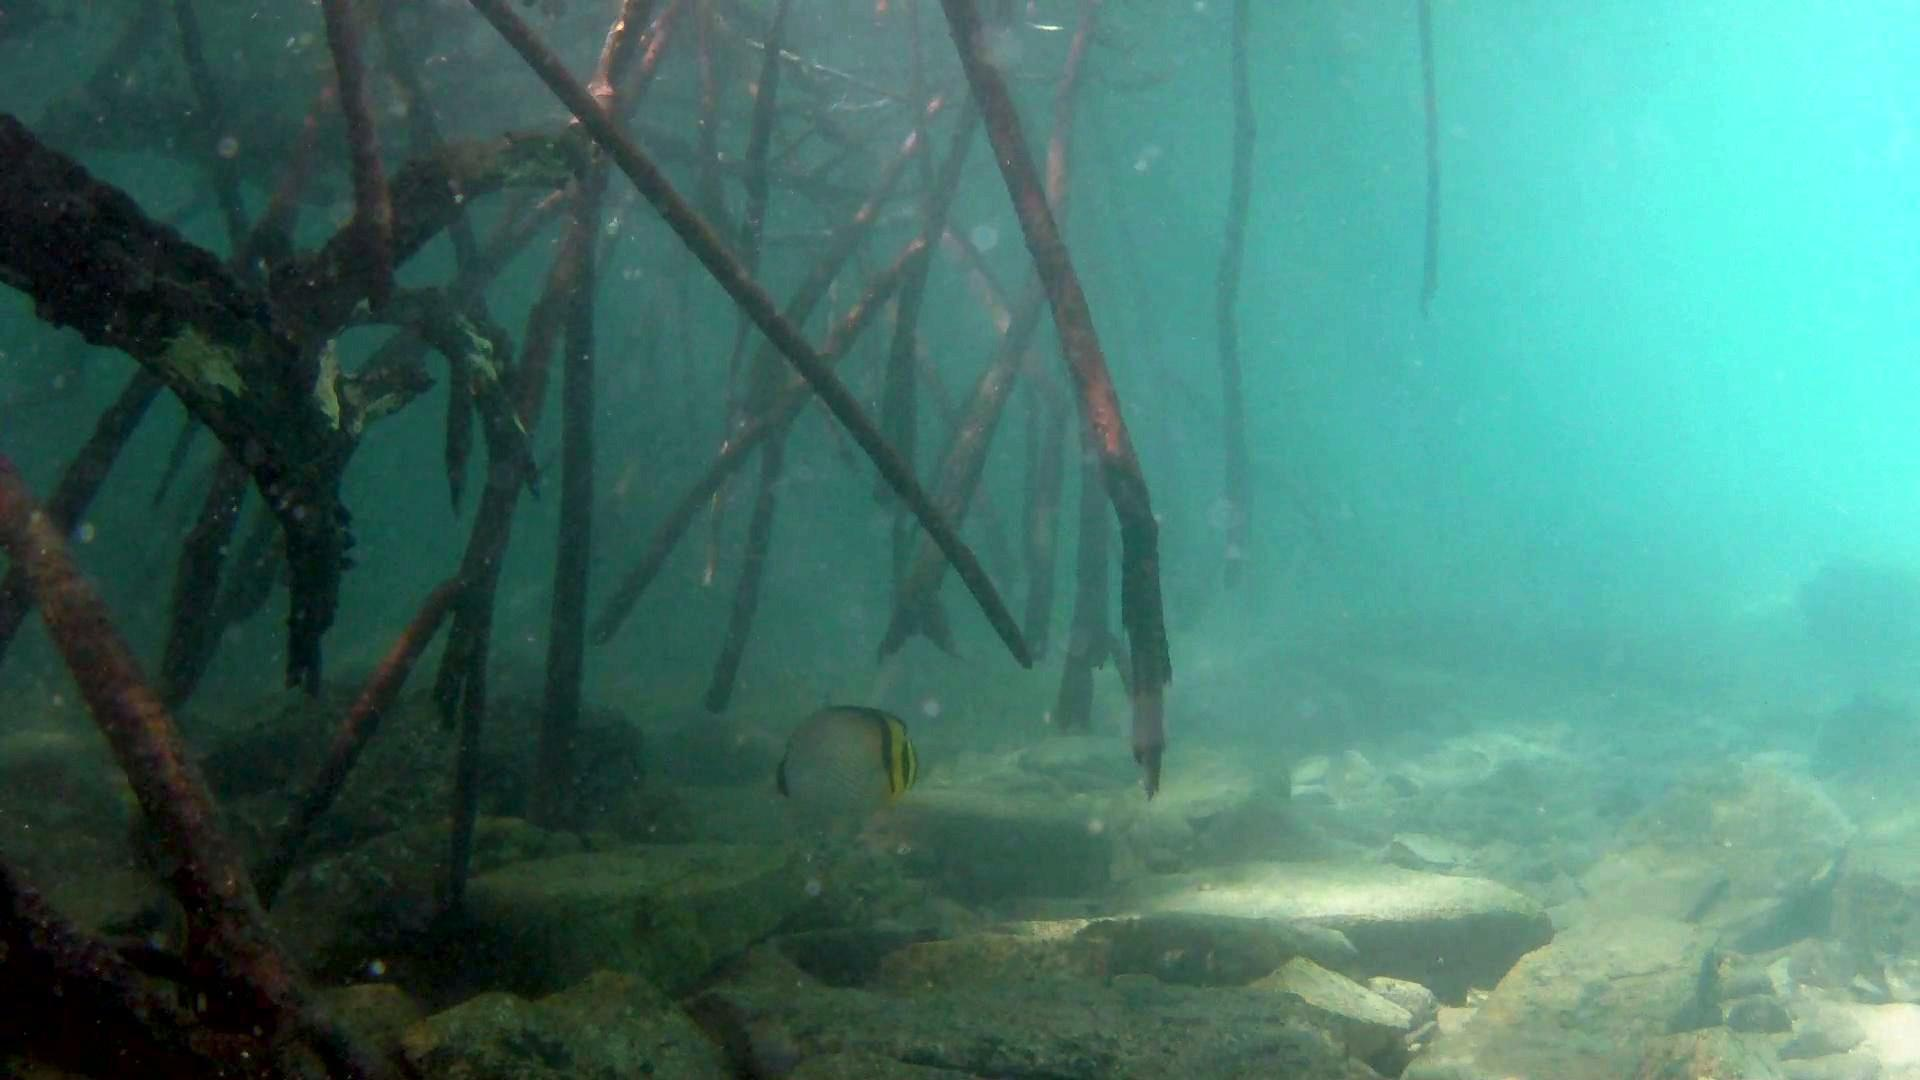chaetodon vagabundus: (760, 697, 928, 825)
